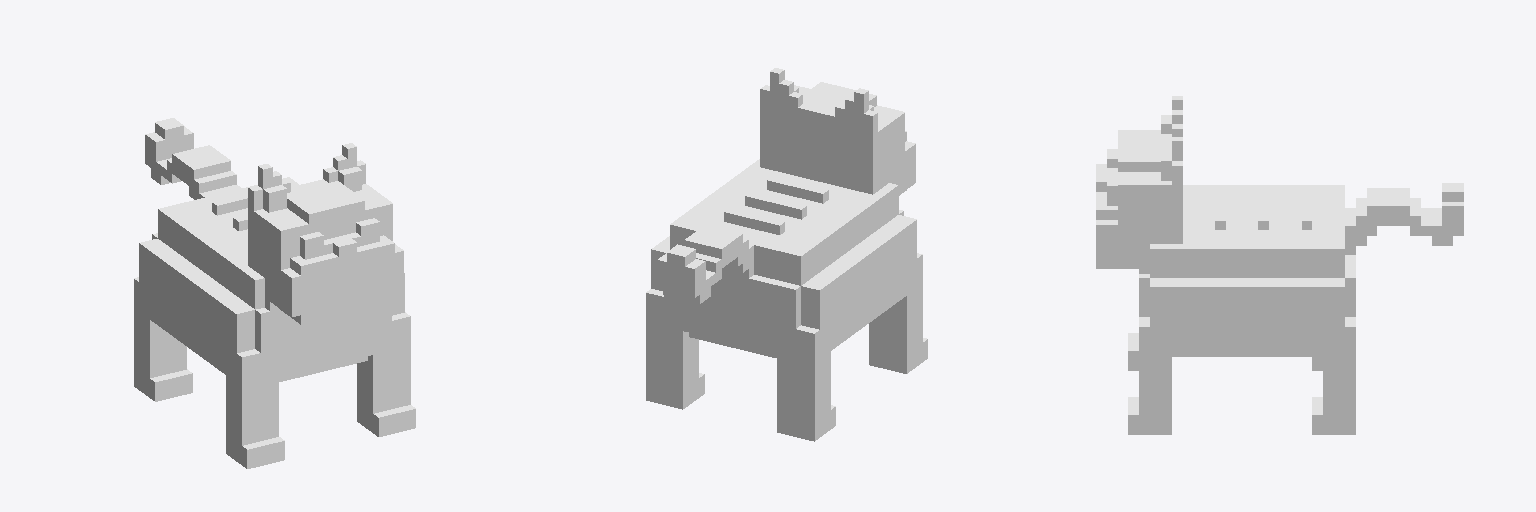
The model's file is CAT_3.obj.
3 renders of one model, left to right at view 1: azimuth 30°, elevation 25°; view 2: azimuth 150°, elevation 25°; view 3: azimuth 270°, elevation 25°, orthographic.
Parts seen in each view (by area): view 1: CAT_3; view 2: CAT_3; view 3: CAT_3.
Part boxes in pixels (left/top/right/bottom): CAT_3: left=134, top=118, right=415, bottom=468; CAT_3: left=646, top=68, right=927, bottom=441; CAT_3: left=1096, top=96, right=1463, bottom=434.
Size of the model in its own units: 18 by 28 by 34.